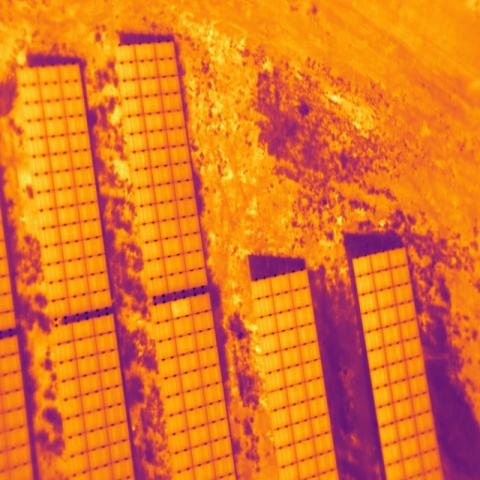fault: (170, 298, 192, 320)
